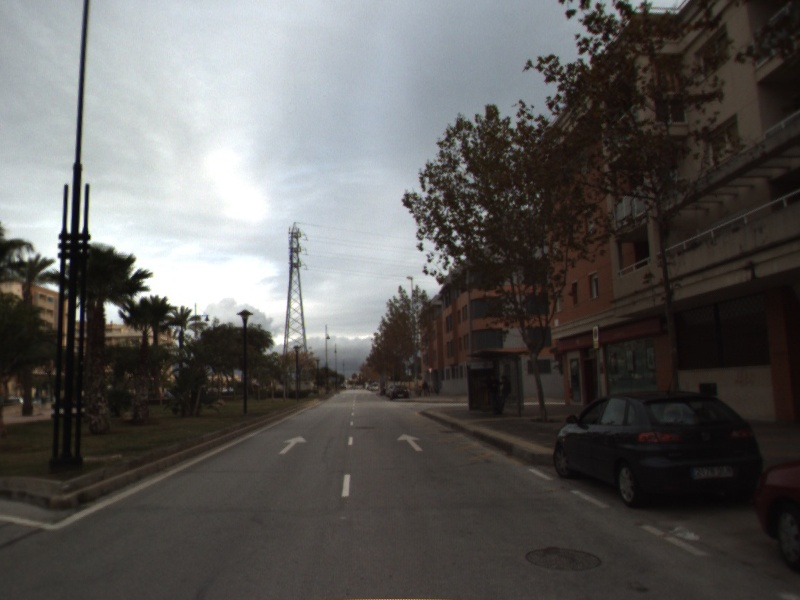STRAIGHT: (277, 434, 309, 456), (395, 432, 425, 453)
